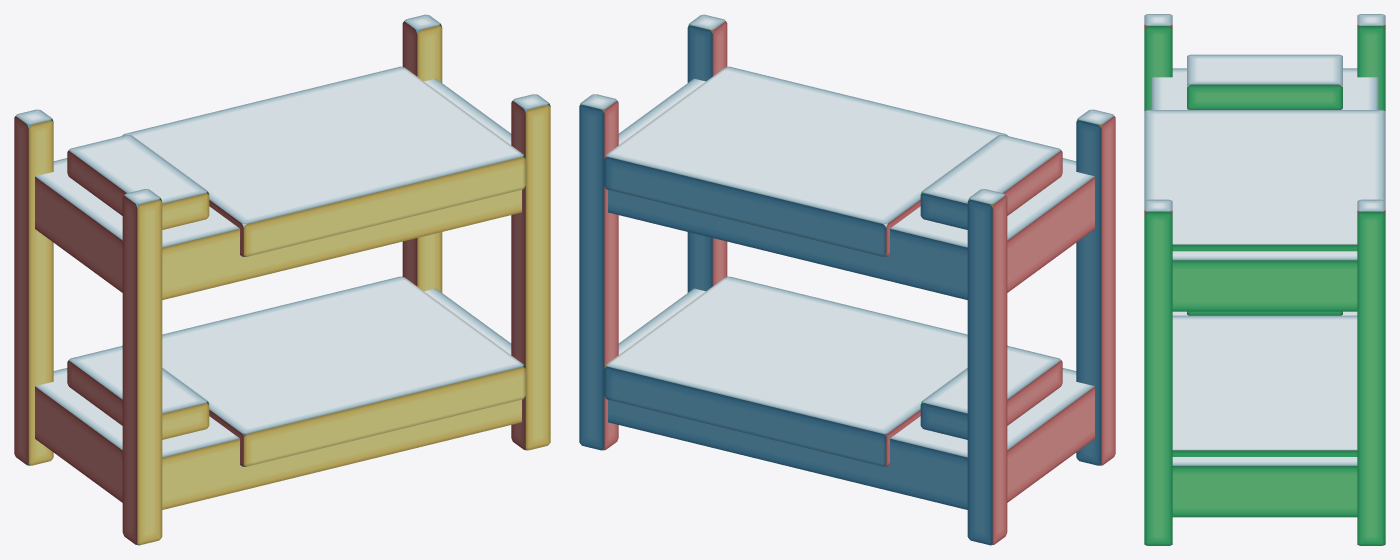
File: bunk_bed.obj
The picture shows the model from 3 angles, left to right: view 1: azimuth 30°, elevation 25°; view 2: azimuth 150°, elevation 25°; view 3: azimuth 270°, elevation 25°; orthographic projection. The views are drawn at different scales.
Visible parts, largest first — view 1: blanket, stand, bed, pillow; view 2: blanket, stand, bed, pillow; view 3: blanket, bed, stand, pillow.
Boxes of the visible parts, x1,y1,x2,y2 form: blanket: (122,66,525,466); stand: (14,14,550,545); bed: (35,78,521,509); pillow: (67,135,209,439); blanket: (604,66,1007,466); stand: (579,14,1115,545); bed: (608,78,1094,509); pillow: (920,135,1062,439); blanket: (1144,110,1385,456); bed: (1151,68,1378,517); stand: (1144,14,1385,545); pillow: (1187,54,1342,315).
Size of the model in its own units: 2.06 by 1.62 by 1.06.
1 material, 1 textured.
